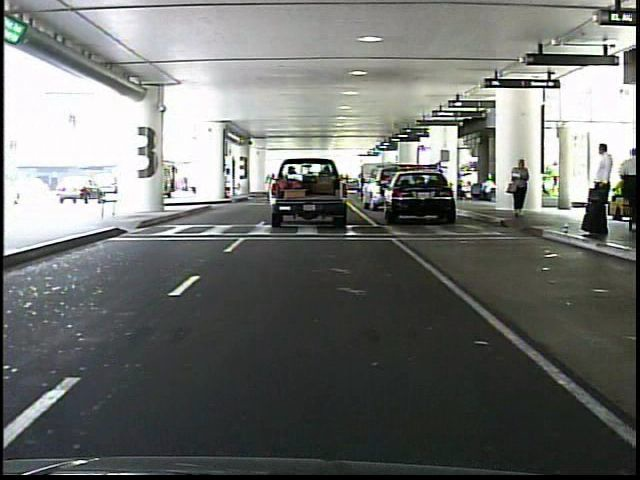person: (581, 139, 616, 244), (616, 143, 639, 232), (509, 151, 535, 222), (432, 160, 448, 205)
